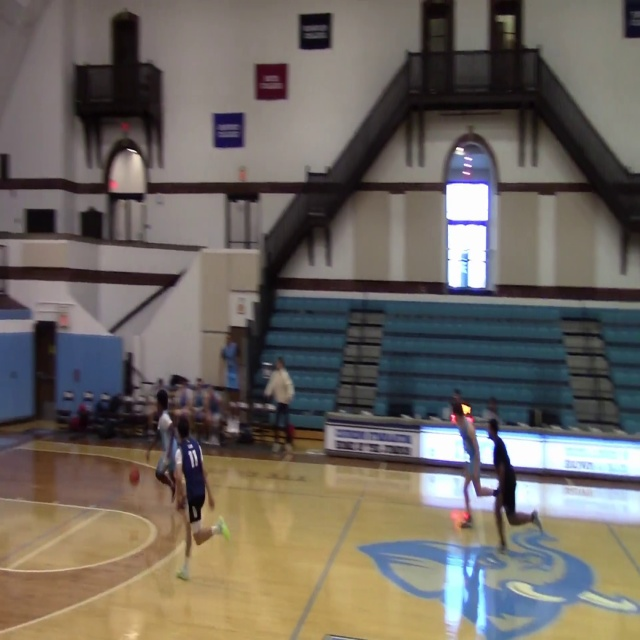Basketball: (450, 509, 470, 525), (129, 467, 140, 484)
